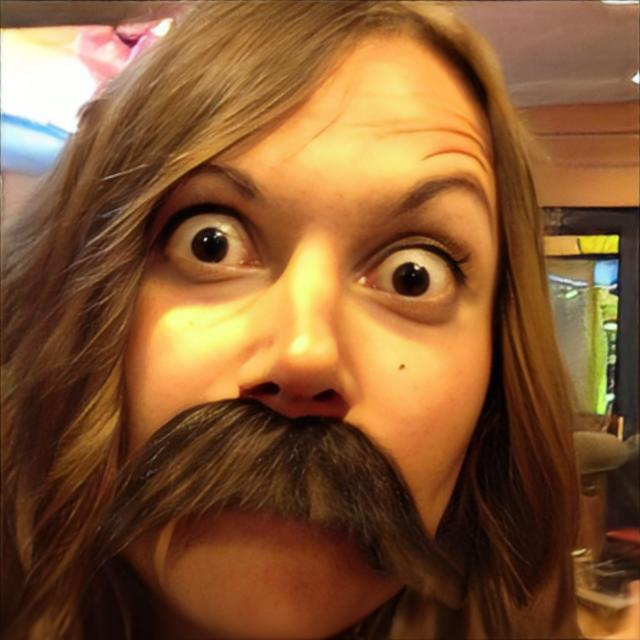fear: (88, 3, 504, 640)
